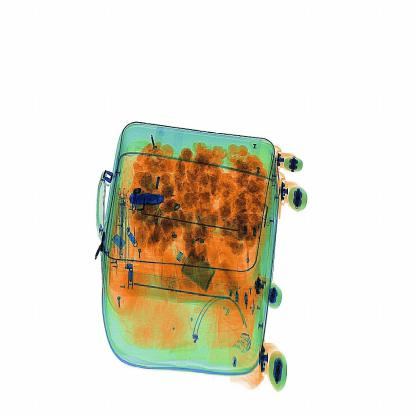knife: (123, 186, 166, 213)
